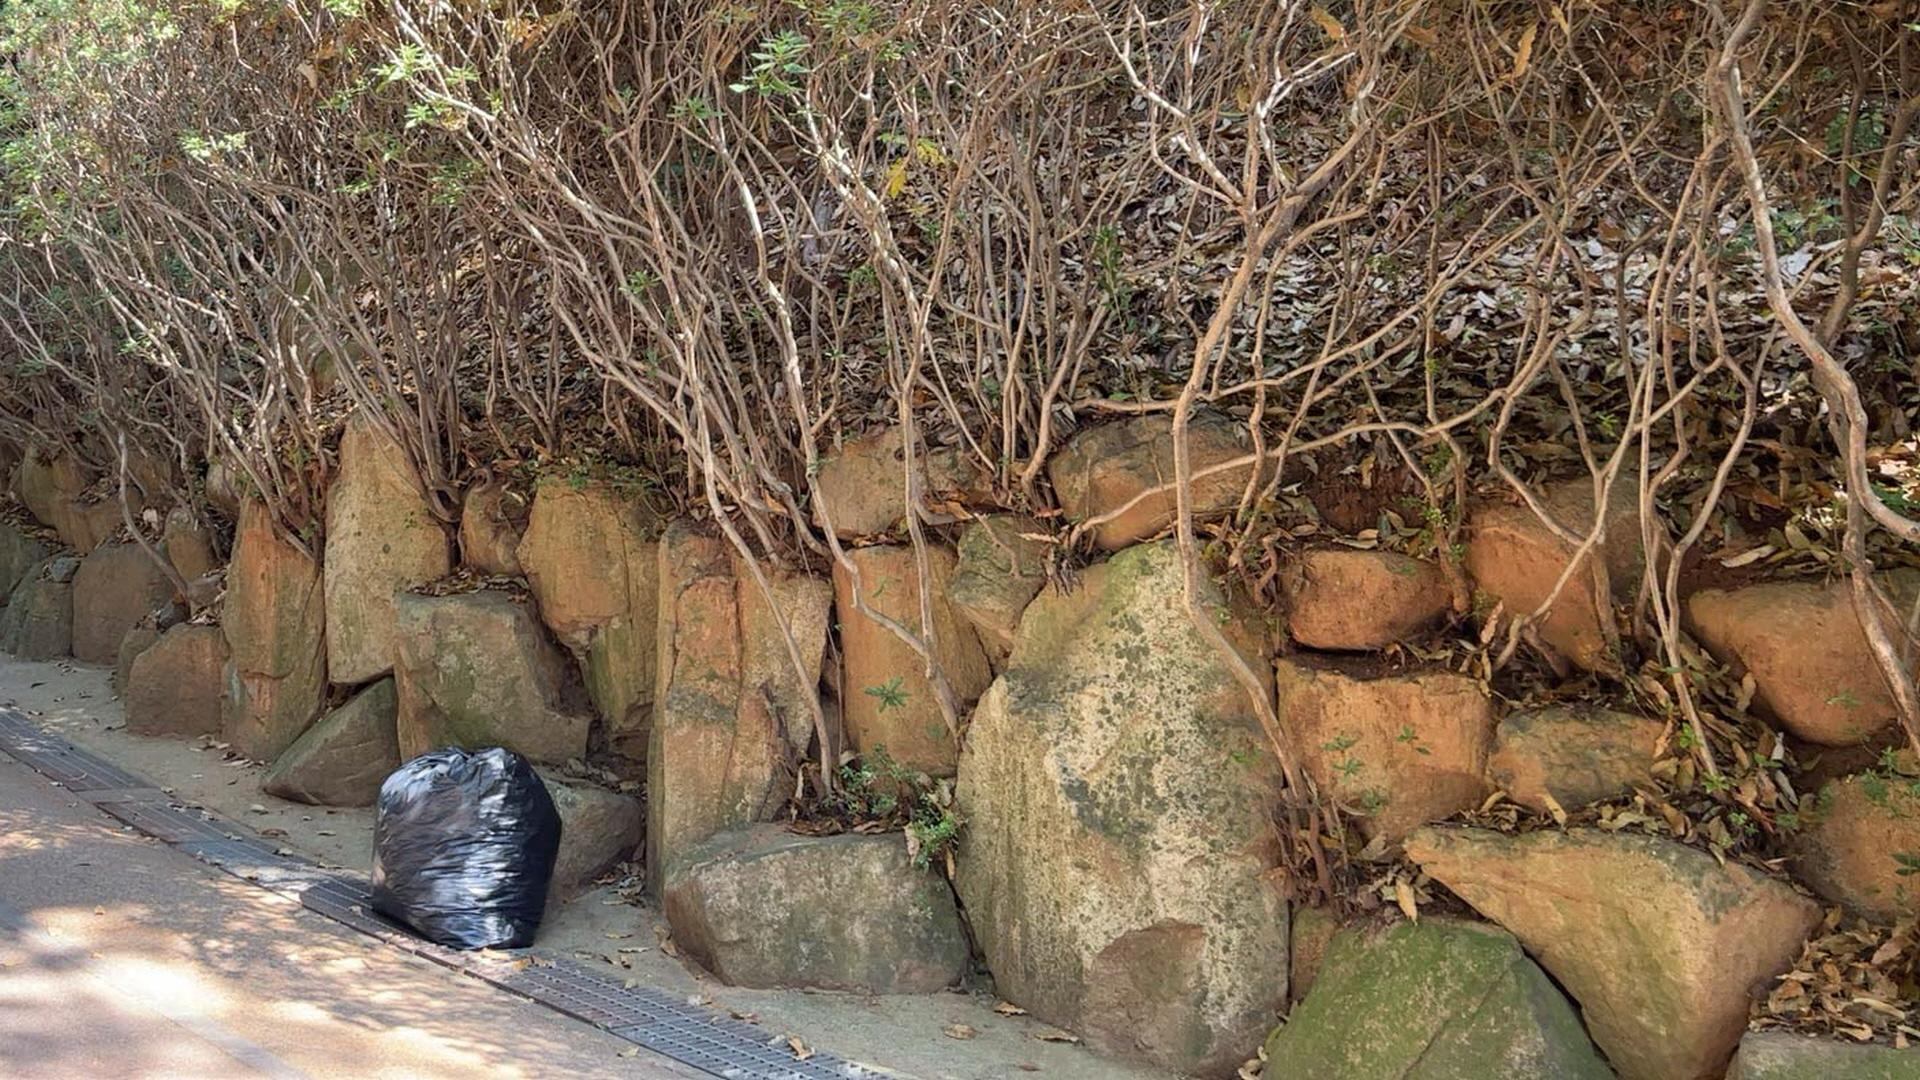black_bag: (352, 731, 563, 963)
